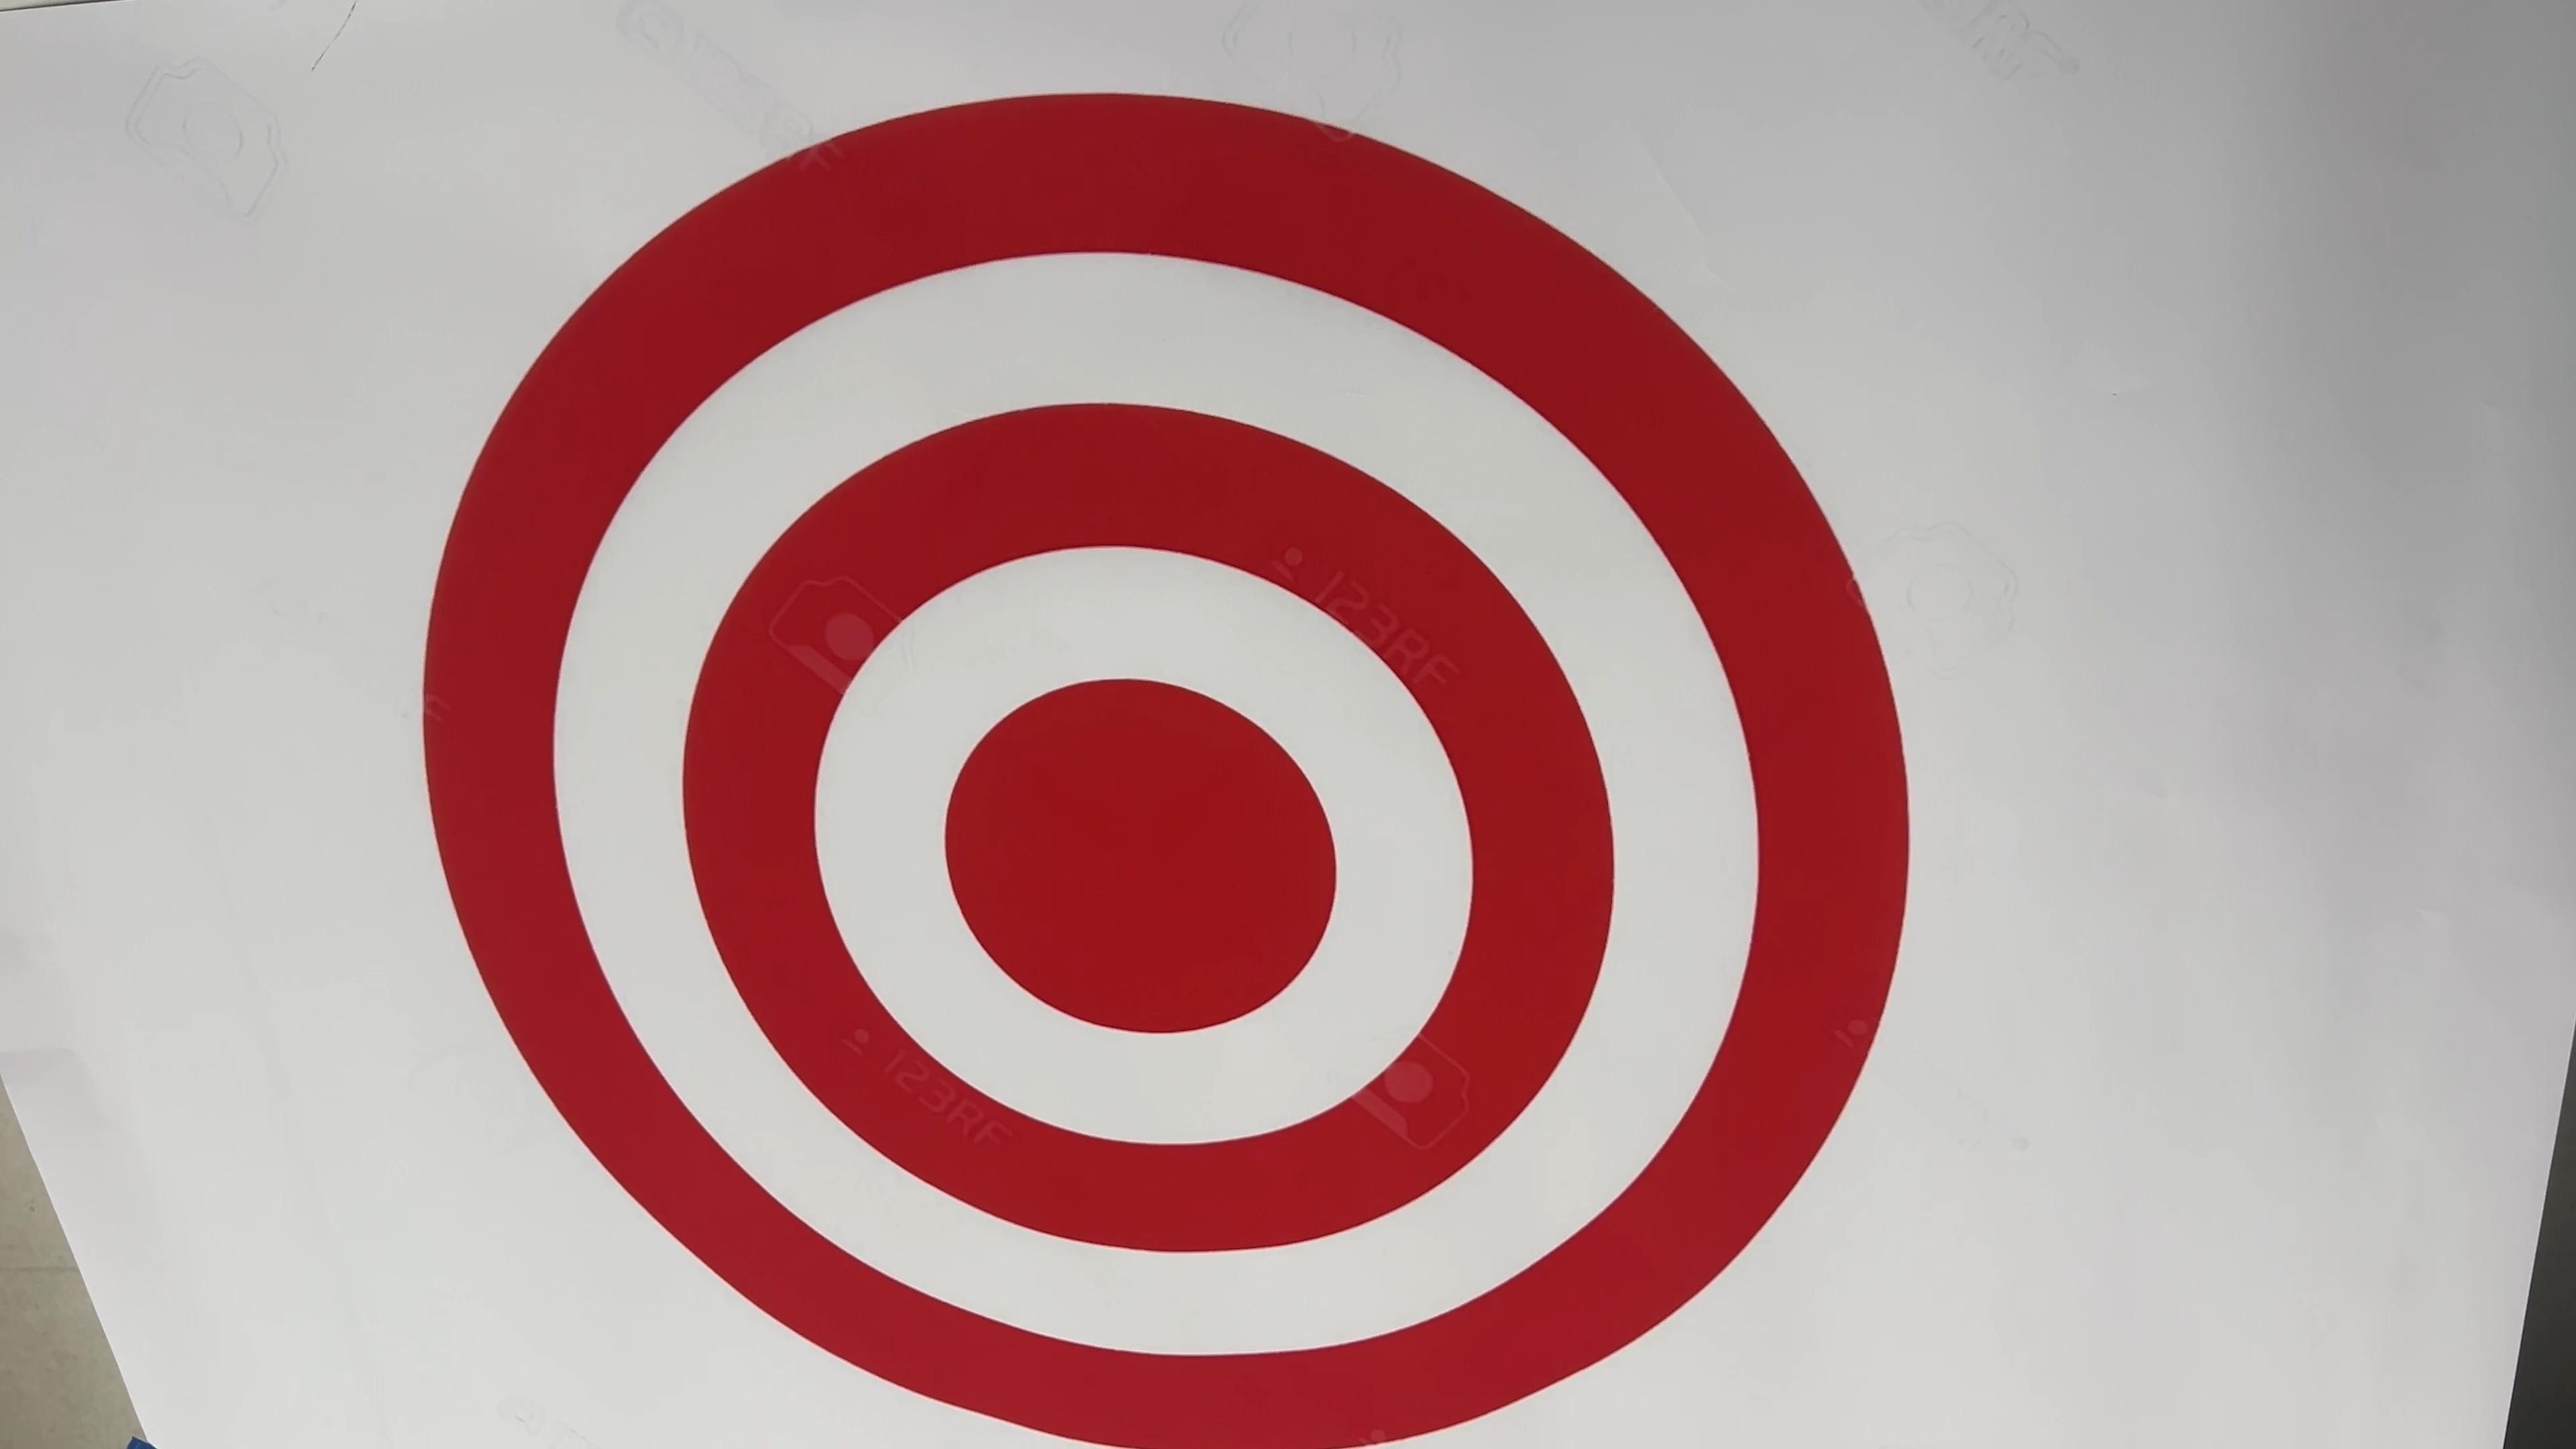target_red: (387, 103, 1916, 1449)
